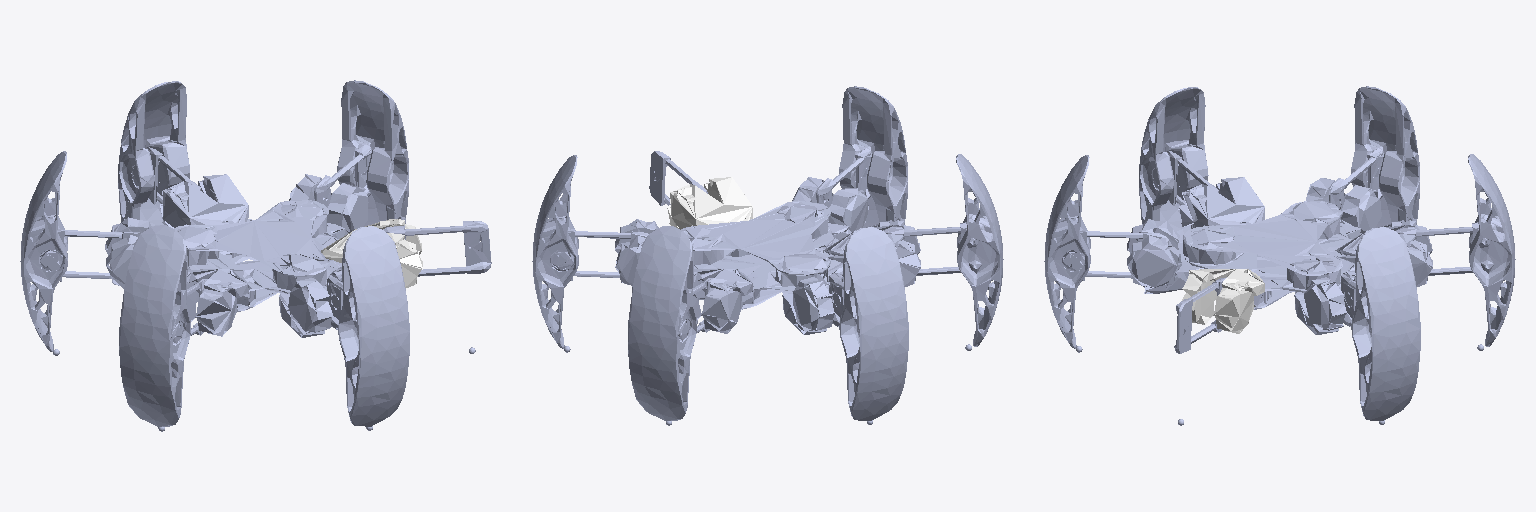
--- Render facts (derived) ---
3 views of the same robot in one strip: view 1: azimuth 30°, elevation 25°; view 2: azimuth 150°, elevation 25°; view 3: azimuth 270°, elevation 25° (orthographic).
Model Hex_centered with 25 links and 24 joints (18 revolute, 6 fixed), rooted at base_link, posed every joint at zero.
Visible links, largest first — view 1: leg4_sec2, leg3_sec2, base_link, leg1_sec2, leg0_sec2, leg2_sec2, leg1_sec0, leg3_sec0, leg4_sec0, leg0_sec0, leg5_sec1, leg5_sec0 (+5 smaller); view 2: leg2_sec2, leg1_sec2, base_link, leg4_sec2, leg3_sec2, leg0_sec2, leg5_sec0, leg1_sec0, leg2_sec0, leg4_sec0, leg3_sec0, leg0_sec0 (+5 smaller); view 3: leg0_sec2, base_link, leg3_sec2, leg2_sec2, leg1_sec2, leg4_sec2, leg5_sec0, leg4_sec0, leg3_sec0, leg0_sec0, leg2_sec0, leg1_sec0 (+6 smaller).
Link boxes in pixels (x1,y1,x2,y2): leg4_sec2: [338, 226, 409, 426]; leg3_sec2: [119, 225, 190, 426]; base_link: [174, 200, 341, 311]; leg1_sec2: [118, 81, 189, 225]; leg0_sec2: [337, 80, 408, 226]; leg2_sec2: [20, 151, 67, 351]; leg1_sec0: [160, 174, 248, 228]; leg3_sec0: [186, 269, 248, 336]; leg4_sec0: [279, 271, 341, 337]; leg0_sec0: [289, 174, 368, 238]; leg5_sec1: [383, 221, 491, 276]; leg5_sec0: [321, 219, 422, 287]; leg2_sec2: [839, 227, 908, 420]; leg1_sec2: [628, 226, 697, 420]; base_link: [681, 200, 842, 309]; leg4_sec2: [839, 86, 907, 227]; leg3_sec2: [956, 154, 1003, 346]; leg0_sec2: [532, 155, 578, 348]; leg5_sec0: [667, 177, 752, 229]; leg1_sec0: [693, 269, 752, 333]; leg2_sec0: [782, 270, 842, 334]; leg4_sec0: [792, 177, 868, 239]; leg3_sec0: [823, 220, 920, 286]; leg0_sec0: [615, 219, 658, 288]; leg0_sec2: [1351, 227, 1420, 420]; base_link: [1183, 201, 1354, 309]; leg3_sec2: [1139, 87, 1208, 242]; leg2_sec2: [1351, 86, 1419, 227]; leg1_sec2: [1468, 154, 1515, 346]; leg4_sec2: [1044, 155, 1090, 348]; leg5_sec0: [1182, 269, 1264, 333]; leg4_sec0: [1127, 219, 1203, 293]; leg3_sec0: [1179, 177, 1264, 228]; leg0_sec0: [1294, 270, 1355, 334]; leg2_sec0: [1306, 178, 1381, 239]; leg1_sec0: [1335, 220, 1432, 286].
Size in the robot's own frame: 0.6332 by 0.6919 by 0.3155 metres.
Meshes: 25 distinct files referenced, 24 mesh visuals loaded (24 OBJ); not drawn: 1 (reference not matched to a file when rendering).

URDF robot description (Hex_centered):
<?xml version="1.0" encoding="utf-8"?>
<!-- This URDF was automatically created by SolidWorks to URDF Exporter! Originally created by Stephen Brawner ([email redacted]) 
     Commit Version: 1.6.0-4-g7f85cfe  Build Version: 1.6.7995.38578
     For more information, please see http://wiki.ros.org/sw_urdf_exporter -->
<robot
  name="Hex_centered">
  <link
    name="base_link">
    <inertial>
      <origin
        xyz="8.4655E-16 -2.7749E-05 -0.0017166"
        rpy="0 0 0" />
      <mass
        value="1.1131" />
      <inertia
        ixx="0.0015545"
        ixy="5.2756E-19"
        ixz="-5.9226E-22"
        iyy="0.0015449"
        iyz="2.5998E-19"
        izz="0.0029493" />
    </inertial>
    <visual>
      <origin
        xyz="0 0 0"
        rpy="0 0 0" />
      <geometry>
        <mesh
          filename="base_link.obj" />
      </geometry>
      <material
        name="">
        <color
          rgba="0.79216 0.81961 0.93333 1" />
      </material>
    </visual>
    <collision>
      <origin
        xyz="0 0 0"
        rpy="0 0 0" />
      <geometry>
        <mesh
          filename="base_link.obj" />
      </geometry>
    </collision>
  </link>
  <link
    name="leg0_sec0">
    <inertial>
      <origin
        xyz="-0.00707569385529468 0.00855062625804036 -0.054815748898491"
        rpy="0 0 0" />
      <mass
        value="0.516744336009406" />
      <inertia
        ixx="0.000332035445912826"
        ixy="-1.19422290500033E-08"
        ixz="-4.70411717105616E-06"
        iyy="0.000381762150648277"
        iyz="2.26631086123267E-05"
        izz="0.000277923623107278" />
    </inertial>
    <visual>
      <origin
        xyz="0 0 0"
        rpy="0 0 0" />
      <geometry>
        <mesh
          filename="leg0_sec0.obj" />
      </geometry>
      <material
        name="">
        <color
          rgba="0.792156862745098 0.819607843137255 0.933333333333333 1" />
      </material>
    </visual>
    <collision>
      <origin
        xyz="0 0 0"
        rpy="0 0 0" />
      <geometry>
        <mesh
          filename="leg0_sec0.obj" />
      </geometry>
    </collision>
  </link>
  <joint
    name="base_link_leg0_sec0"
    type="revolute">
    <origin
      xyz="0.0883345911860111 0.0510000000000006 -0.00299999999999999"
      rpy="-1.5707963267949 0 2.09951777344053" />
    <parent
      link="base_link" />
    <child
      link="leg0_sec0" />
    <axis
      xyz="0 1 0" />
    <limit
      lower="-1"
      upper="1"
      effort="10"
      velocity="10" />
  </joint>
  <link
    name="leg0_sec1">
    <inertial>
      <origin
        xyz="-3.47960722002806E-05 0.00296670012037184 -0.0658939676969916"
        rpy="0 0 0" />
      <mass
        value="0.0550811829575692" />
      <inertia
        ixx="2.28144165037125E-05"
        ixy="5.51953299782515E-10"
        ixz="4.60445429205642E-10"
        iyy="4.57864500280882E-05"
        iyz="-1.00902241603427E-08"
        izz="2.37510646239458E-05" />
    </inertial>
    <visual>
      <origin
        xyz="0 0 0"
        rpy="0 0 0" />
      <geometry>
        <mesh
          filename="leg0_sec1.obj" />
      </geometry>
      <material
        name="">
        <color
          rgba="0.792156862745098 0.819607843137255 0.933333333333333 1" />
      </material>
    </visual>
    <collision>
      <origin
        xyz="0 0 0"
        rpy="0 0 0" />
      <geometry>
        <mesh
          filename="leg0_sec1.obj" />
      </geometry>
    </collision>
  </link>
  <joint
    name="leg0_sec0_leg0_sec1"
    type="revolute">
    <origin
      xyz="0.014 -0.0025 -0.083"
      rpy="0 0.045641 1.5708" />
    <parent
      link="leg0_sec0" />
    <child
      link="leg0_sec1" />
    <axis
      xyz="-2.1688E-05 -1 0.00047485" />
    <limit
      lower="-1"
      upper="1"
      effort="10"
      velocity="10" />
  </joint>
  <link
    name="leg0_sec2">
    <inertial>
      <origin
        xyz="0.00597993712436784 -0.019828072955937 0.00171878033778611"
        rpy="0 0 0" />
      <mass
        value="0.30128216441748" />
      <inertia
        ixx="0.0012875062335798"
        ixy="4.31058103013784E-07"
        ixz="0.000297696378153032"
        iyy="0.00126928197346853"
        iyz="3.09103455282562E-07"
        izz="0.000361201639787854" />
    </inertial>
    <visual>
      <origin
        xyz="0 0 0"
        rpy="0 0 0" />
      <geometry>
        <mesh
          filename="leg0_sec2.obj" />
      </geometry>
      <material
        name="">
        <color
          rgba="0.792156862745098 0.819607843137255 0.933333333333333 1" />
      </material>
    </visual>
    <collision>
      <origin
        xyz="0 0 0"
        rpy="0 0 0" />
      <geometry>
        <mesh
          filename="leg0_sec2.obj" />
      </geometry>
    </collision>
  </link>
  <joint
    name="leg0_sec1_leg0_sec2"
    type="revolute">
    <origin
      xyz="0 -0.0075 -0.118"
      rpy="0 -1.302 3.1416" />
    <parent
      link="leg0_sec1" />
    <child
      link="leg0_sec2" />
    <axis
      xyz="0.00046356 1 0.00010519" />
    <limit
      lower="-1"
      upper="1"
      effort="10"
      velocity="10" />
  </joint>
  <link
    name="leg0_end">
    <inertial>
      <origin
        xyz="-0.00438256224777916 -0.00839772550913839 0.000260732623376798"
        rpy="0 0 0" />
      <mass
        value="0.000523598775598299" />
      <inertia
        ixx="5.23598775598299E-09"
        ixy="-2.22951024477183E-25"
        ixz="-2.58493941422821E-26"
        iyy="5.23598775598298E-09"
        iyz="-5.16987882845642E-26"
        izz="5.23598775598299E-09" />
    </inertial>
    <visual>
      <origin
        xyz="0 0 0"
        rpy="0 0 0" />
      <geometry>
        <mesh
          filename="leg0_end.obj" />
      </geometry>
      <material
        name="">
        <color
          rgba="0.792156862745098 0.819607843137255 0.933333333333333 1" />
      </material>
    </visual>
    <collision>
      <origin
        xyz="0 0 0"
        rpy="0 0 0" />
      <geometry>
        <mesh
          filename="leg0_end.obj" />
      </geometry>
    </collision>
  </link>
  <joint
    name="leg0_sec2_leg0_end"
    type="fixed">
    <origin
      xyz="-0.030129 -0.021437 0.1463"
      rpy="-1.5398 0.11597 -2.657" />
    <parent
      link="leg0_sec2" />
    <child
      link="leg0_end" />
    <axis
      xyz="0 0 0" />
    <limit
      lower="-1"
      upper="1"
      effort="10"
      velocity="10" />
  </joint>
  <link
    name="leg1_sec0">
    <inertial>
      <origin
        xyz="-0.00710445304603185 0.00855022953898073 -0.0548148925372757"
        rpy="0 0 0" />
      <mass
        value="0.51674419533482" />
      <inertia
        ixx="0.000332030534681885"
        ixy="1.09687117943672E-08"
        ixz="-4.75157743858336E-06"
        iyy="0.000381752459194266"
        iyz="2.2678027424401E-05"
        izz="0.000277938234495214" />
    </inertial>
    <visual>
      <origin
        xyz="0 0 0"
        rpy="0 0 0" />
      <geometry>
        <mesh
          filename="leg1_sec0.obj" />
      </geometry>
      <material
        name="">
        <color
          rgba="0.792156862745098 0.819607843137255 0.933333333333333 1" />
      </material>
    </visual>
    <collision>
      <origin
        xyz="0 0 0"
        rpy="0 0 0" />
      <geometry>
        <mesh
          filename="leg1_sec0.obj" />
      </geometry>
    </collision>
  </link>
  <joint
    name="base_link_leg1_sec0"
    type="revolute">
    <origin
      xyz="0 0.102 0"
      rpy="1.5707963267949 0 0.00401317579419335" />
    <parent
      link="base_link" />
    <child
      link="leg1_sec0" />
    <axis
      xyz="0 1 0" />
    <limit
      lower="-1"
      upper="1"
      effort="10"
      velocity="10" />
  </joint>
  <link
    name="leg1_sec1">
    <inertial>
      <origin
        xyz="1.48463732280169E-09 0.00298679638148967 -0.0658997495889599"
        rpy="0 0 0" />
      <mass
        value="0.0550811690754703" />
      <inertia
        ixx="2.28145160395789E-05"
        ixy="9.43216308911731E-13"
        ixz="-1.27595524711446E-10"
        iyy="4.57865354622549E-05"
        iyz="1.45702317896288E-09"
        izz="2.37510484303137E-05" />
    </inertial>
    <visual>
      <origin
        xyz="0 0 0"
        rpy="0 0 0" />
      <geometry>
        <mesh
          filename="leg1_sec1.obj" />
      </geometry>
      <material
        name="">
        <color
          rgba="0.792156862745098 0.819607843137255 0.933333333333333 1" />
      </material>
    </visual>
    <collision>
      <origin
        xyz="0 0 0"
        rpy="0 0 0" />
      <geometry>
        <mesh
          filename="leg1_sec1.obj" />
      </geometry>
    </collision>
  </link>
  <joint
    name="leg1_sec0_leg1_sec1"
    type="revolute">
    <origin
      xyz="-0.0139999999999956 -0.00249999999999998 -0.0830000000000002"
      rpy="0 0.0750140295306033 -1.5707963267949" />
    <parent
      link="leg1_sec0" />
    <child
      link="leg1_sec1" />
    <axis
      xyz="0 1 0" />
    <limit
      lower="-1"
      upper="1"
      effort="10"
      velocity="10" />
  </joint>
  <link
    name="leg1_sec2">
    <inertial>
      <origin
        xyz="0.00447856820292183 0.0359301913587442 0.00431952813861851"
        rpy="0 0 0" />
      <mass
        value="0.301282245465355" />
      <inertia
        ixx="0.000839650699187153"
        ixy="-5.43340470613798E-07"
        ixz="0.000550363105349293"
        iyy="0.00126928650978786"
        iyz="-2.38816065708558E-07"
        izz="0.000809060253833485" />
    </inertial>
    <visual>
      <origin
        xyz="0 0 0"
        rpy="0 0 0" />
      <geometry>
        <mesh
          filename="leg1_sec2.obj" />
      </geometry>
      <material
        name="">
        <color
          rgba="0.792156862745098 0.819607843137255 0.933333333333333 1" />
      </material>
    </visual>
    <collision>
      <origin
        xyz="0 0 0"
        rpy="0 0 0" />
      <geometry>
        <mesh
          filename="leg1_sec2.obj" />
      </geometry>
    </collision>
  </link>
  <joint
    name="leg1_sec1_leg1_sec2"
    type="revolute">
    <origin
      xyz="0 -0.0240000000000046 -0.118"
      rpy="0 -0.791521153426387 0" />
    <parent
      link="leg1_sec1" />
    <child
      link="leg1_sec2" />
    <axis
      xyz="0 -1 0" />
    <limit
      lower="-1"
      upper="1"
      effort="10"
      velocity="10" />
  </joint>
  <link
    name="leg1_end">
    <inertial>
      <origin
        xyz="0 0 0"
        rpy="0 0 0" />
      <mass
        value="0.000523598775598299" />
      <inertia
        ixx="5.23598775598299E-09"
        ixy="1.03397576569128E-25"
        ixz="0"
        iyy="5.23598775598299E-09"
        iyz="-1.29246970711411E-25"
        izz="5.23598775598299E-09" />
    </inertial>
    <visual>
      <origin
        xyz="0 0 0"
        rpy="0 0 0" />
      <geometry>
        <mesh
          filename="leg1_end.obj" />
      </geometry>
      <material
        name="">
        <color
          rgba="0.792156862745098 0.819607843137255 0.933333333333333 1" />
      </material>
    </visual>
    <collision>
      <origin
        xyz="0 0 0"
        rpy="0 0 0" />
      <geometry>
        <mesh
          filename="leg1_end.obj" />
      </geometry>
    </collision>
  </link>
  <joint
    name="leg1_sec2_leg1_end"
    type="fixed">
    <origin
      xyz="0.124761507761288 0.036148286668602 -0.0984937610507115"
      rpy="0.969665570451577 0.803297229042856 2.41148618199875" />
    <parent
      link="leg1_sec2" />
    <child
      link="leg1_end" />
    <axis
      xyz="0 0 0" />
  </joint>
  <link
    name="leg2_sec0">
    <inertial>
      <origin
        xyz="-0.00710445055153557 -0.0206811805150298 -0.054812028813218"
        rpy="0 0 0" />
      <mass
        value="0.516744340904771" />
      <inertia
        ixx="0.000332030498302113"
        ixy="-5.73639305002406E-11"
        ixz="-4.73249435846793E-06"
        iyy="0.000381762164339501"
        iyz="2.26631091945157E-05"
        izz="0.000277928582872897" />
    </inertial>
    <visual>
      <origin
        xyz="0 0 0"
        rpy="0 0 0" />
      <geometry>
        <mesh
          filename="leg2_sec0.obj" />
      </geometry>
      <material
        name="">
        <color
          rgba="0.792156862745098 0.819607843137255 0.933333333333333 1" />
      </material>
    </visual>
    <collision>
      <origin
        xyz="0 0 0"
        rpy="0 0 0" />
      <geometry>
        <mesh
          filename="leg2_sec0.obj" />
      </geometry>
    </collision>
  </link>
  <joint
    name="base_link_leg2_sec0"
    type="revolute">
    <origin
      xyz="-0.0883345911860131 0.0510000000000005 -0.0322318069086422"
      rpy="-1.5707963267949 0 -2.0887478298947" />
    <parent
      link="base_link" />
    <child
      link="leg2_sec0" />
    <axis
      xyz="0 1 0" />
    <limit
      lower="-1"
      upper="1"
      effort="10"
      velocity="10" />
  </joint>
  <link
    name="leg2_sec1">
    <inertial>
      <origin
        xyz="5.25503776604985E-09 -0.0109552250162961 -0.0658997561016724"
        rpy="0 0 0" />
      <mass
        value="0.0550811835691165" />
      <inertia
        ixx="2.28144162219905E-05"
        ixy="6.87387369928867E-13"
        ixz="-2.99949390540895E-11"
        iyy="4.57864548150819E-05"
        iyz="1.45667549934326E-09"
        izz="2.37510606270452E-05" />
    </inertial>
    <visual>
      <origin
        xyz="0 0 0"
        rpy="0 0 0" />
      <geometry>
        <mesh
          filename="leg2_sec1.obj" />
      </geometry>
      <material
        name="">
        <color
          rgba="0.792156862745098 0.819607843137255 0.933333333333333 1" />
      </material>
    </visual>
    <collision>
      <origin
        xyz="0 0 0"
        rpy="0 0 0" />
      <geometry>
        <mesh
          filename="leg2_sec1.obj" />
      </geometry>
    </collision>
  </link>
  <joint
    name="leg2_sec0_leg2_sec1"
    type="revolute">
    <origin
      xyz="0 -0.0317318069086421 -0.0829999999999991"
      rpy="0 0.0461645170086927 1.5707963267949" />
    <parent
      link="leg2_sec0" />
    <child
      link="leg2_sec1" />
    <axis
      xyz="0 0.999999998787039 4.920117719176E-05" />
    <limit
      lower="-1"
      upper="1"
      effort="10"
      velocity="10" />
  </joint>
  <link
    name="leg2_sec2">
    <inertial>
      <origin
        xyz="0.00506647207805064 -0.00361212267776093 0.00156975734931639"
        rpy="0 0 0" />
      <mass
        value="0.301282383105138" />
      <inertia
        ixx="0.00100817381744662"
        ixy="-0.000518985545059815"
        ixz="3.35388953606806E-07"
        iyy="0.000640542280867976"
        iyz="-4.89721520029434E-07"
        izz="0.00126929100056078" />
    </inertial>
    <visual>
      <origin
        xyz="0 0 0"
        rpy="0 0 0" />
      <geometry>
        <mesh
          filename="leg2_sec2.obj" />
      </geometry>
      <material
        name="">
        <color
          rgba="0.792156862745098 0.819607843137255 0.933333333333333 1" />
      </material>
    </visual>
    <collision>
      <origin
        xyz="0 0 0"
        rpy="0 0 0" />
      <geometry>
        <mesh
          filename="leg2_sec2.obj" />
      </geometry>
    </collision>
  </link>
  <joint
    name="leg2_sec1_leg2_sec2"
    type="revolute">
    <origin
      xyz="0 0 -0.118"
      rpy="-1.57079632679491 -0.971924974977197 -3.14159265358978" />
    <parent
      link="leg2_sec1" />
    <child
      link="leg2_sec2" />
    <axis
      xyz="-4.19200750312876E-05 2.58576780800823E-05 0.999999998787044" />
    <limit
      lower="-1"
      upper="1"
      effort="10"
      velocity="10" />
  </joint>
  <link
    name="leg2_end">
    <inertial>
      <origin
        xyz="0 0 0"
        rpy="0 0 0" />
      <mass
        value="0.000523598775598299" />
      <inertia
        ixx="5.23598775598299E-09"
        ixy="-9.04728794979874E-26"
        ixz="-2.06795153138257E-25"
        iyy="5.23598775598298E-09"
        iyz="1.03397576569128E-25"
        izz="5.23598775598299E-09" />
    </inertial>
    <visual>
      <origin
        xyz="0 0 0"
        rpy="0 0 0" />
      <geometry>
        <mesh
          filename="leg2_end.obj" />
      </geometry>
      <material
        name="">
        <color
          rgba="0.792156862745098 0.819607843137255 0.933333333333333 1" />
      </material>
    </visual>
    <collision>
      <origin
        xyz="0 0 0"
        rpy="0 0 0" />
      <geometry>
        <mesh
          filename="leg2_end.obj" />
      </geometry>
    </collision>
  </link>
  <joint
    name="leg2_sec2_leg2_end"
    type="fixed">
    <origin
      xyz="-0.0759237273830959 -0.138069815645729 0.00153632213479866"
      rpy="3.11289588948014 0.483102881287211 2.68217676816751" />
    <parent
      link="leg2_sec2" />
    <child
      link="leg2_end" />
    <axis
      xyz="0 0 0" />
  </joint>
  <link
    name="leg3_sec0">
    <inertial>
      <origin
        xyz="-0.00710445049796826 0.0085502314605868 -0.0548148830973804"
        rpy="0 0 0" />
      <mass
        value="0.51674434334138" />
      <inertia
        ixx="0.000332030497320948"
        ixy="1.09508607538054E-08"
        ixz="-4.75156132613358E-06"
        iyy="0.000381752452117392"
        iyz="2.2678016415106E-05"
        izz="0.000277938295233445" />
    </inertial>
    <visual>
      <origin
        xyz="0 0 0"
        rpy="0 0 0" />
      <geometry>
        <mesh
          filename="leg3_sec0.obj" />
      </geometry>
      <material
        name="">
        <color
          rgba="0.792156862745098 0.819607843137255 0.933333333333333 1" />
      </material>
    </visual>
    <collision>
      <origin
        xyz="0 0 0"
        rpy="0 0 0" />
      <geometry>
        <mesh
          filename="leg3_sec0.obj" />
      </geometry>
    </collision>
  </link>
  <joint
    name="base_link_leg3_sec0"
    type="revolute">
    <origin
      xyz="-0.0883345911860119 -0.0510000000000026 0"
      rpy="1.5707963267949 0 2.09840827818739" />
    <parent
      link="base_link" />
    <child
      link="leg3_sec0" />
    <axis
      xyz="0 1 0" />
    <limit
      lower="-1"
      upper="1"
      effort="10"
      velocity="10" />
  </joint>
  <link
    name="leg3_sec1">
    <inertial>
      <origin
        xyz="-1.86242390606828E-09 0.00298683029554875 -0.0658997383493555"
        rpy="0 0 0" />
      <mass
        value="0.05508118510774" />
      <inertia
        ixx="2.28144167847957E-05"
        ixy="1.15459821771112E-12"
        ixz="-2.95649396417999E-11"
        iyy="4.57864559080722E-05"
        iyz="1.45756403955783E-09"
        izz="2.37510611896855E-05" />
    </inertial>
    <visual>
      <origin
        xyz="0 0 0"
        rpy="0 0 0" />
      <geometry>
        <mesh
          filename="leg3_sec1.obj" />
      </geometry>
      <material
        name="">
        <color
          rgba="0.792156862745098 0.819607843137255 0.933333333333333 1" />
      </material>
    </visual>
    <collision>
      <origin
        xyz="0 0 0"
        rpy="0 0 0" />
      <geometry>
        <mesh
          filename="leg3_sec1.obj" />
      </geometry>
    </collision>
  </link>
  <joint
    name="leg3_sec0_leg3_sec1"
    type="revolute">
    <origin
      xyz="-0.014 -0.00249999999999027 -0.082999999999997"
      rpy="0 0.0750140293482233 -1.5707963267949" />
    <parent
      link="leg3_sec0" />
    <child
      link="leg3_sec1" />
    <axis
      xyz="0 1 0" />
    <limit
      lower="-1"
      upper="1"
      effort="10"
      velocity="10" />
  </joint>
  <link
    name="leg3_sec2">
    <inertial>
      <origin
        xyz="0.00447860530466054 0.0359301784982642 0.00431942794813184"
        rpy="0 0 0" />
      <mass
        value="0.301282032345394" />
      <inertia
        ixx="0.00083964691740419"
        ixy="-5.43655253747486E-07"
        ixz="0.000550362229373171"
        iyy="0.00126928091669943"
        iyz="-2.3820985063926E-07"
        izz="0.000809058576296916" />
    </inertial>
    <visual>
      <origin
        xyz="0 0 0"
        rpy="0 0 0" />
      <geometry>
        <mesh
          filename="leg3_sec2.obj" />
      </geometry>
      <material
        name="">
        <color
          rgba="0.792156862745098 0.819607843137255 0.933333333333333 1" />
      </material>
    </visual>
    <collision>
      <origin
        xyz="0 0 0"
        rpy="0 0 0" />
      <geometry>
        <mesh
          filename="leg3_sec2.obj" />
      </geometry>
    </collision>
  </link>
  <joint
    name="leg3_sec1_leg3_sec2"
    type="revolute">
    <origin
      xyz="0 -0.0240000000000002 -0.118000000000003"
      rpy="0 -0.79152115324401 0" />
    <parent
      link="leg3_sec1" />
    <child
      link="leg3_sec2" />
    <axis
      xyz="0 -1 0" />
    <limit
      lower="-1"
      upper="1"
      effort="10"
      velocity="10" />
  </joint>
  <link
    name="leg3_end">
    <inertial>
      <origin
        xyz="0 0 0"
        rpy="0 0 0" />
      <mass
        value="0.000523598775598299" />
      <inertia
        ixx="5.23598775598299E-09"
        ixy="-2.26182198744969E-26"
        ixz="-3.87740912134232E-26"
        iyy="5.23598775598299E-09"
        iyz="-5.16987882845642E-26"
        izz="5.23598775598299E-09" />
    </inertial>
    <visual>
      <origin
        xyz="0 0 0"
        rpy="0 0 0" />
      <geometry>
        <mesh
          filename="leg3_end.obj" />
      </geometry>
      <material
        name="">
        <color
          rgba="0.792156862745098 0.819607843137255 0.933333333333333 1" />
      </material>
    </visual>
    <collision>
      <origin
        xyz="0 0 0"
        rpy="0 0 0" />
      <geometry>
        <mesh
          filename="leg3_end.obj" />
      </geometry>
    </collision>
  </link>
  <joint
    name="leg3_sec2_leg3_end"
    type="fixed">
    <origin
      xyz="0.124761507746165 0.0361482866686022 -0.0984937610354024"
      rpy="0.969665570451575 0.803297229042854 2.41148618199875" />
    <parent
      link="leg3_sec2" />
    <child
      link="leg3_end" />
    <axis
      xyz="0 0 0" />
  </joint>
  <link
    name="leg4_sec0">
    <inertial>
      <origin
        xyz="-0.00710445303505077 0.00855062450257226 -0.0548120381256653"
        rpy="0 0 0" />
      <mass
        value="0.51674419539948" />
      <inertia
        ixx="0.000332030534503116"
        ixy="-3.96325880872006E-11"
        ixz="-4.7325102588364E-06"
        iyy="0.000381762170173281"
        iyz="2.26631200821973E-05"
        izz="0.000277928522694961" />
    </inertial>
    <visual>
      <origin
        xyz="0 0 0"
        rpy="0 0 0" />
      <geometry>
        <mesh
          filename="leg4_sec0.obj" />
      </geometry>
      <material
        name="">
        <color
          rgba="0.792156862745098 0.819607843137255 0.933333333333333 1" />
      </material>
    </visual>
    <collision>
      <origin
        xyz="0 0 0"
        rpy="0 0 0" />
      <geometry>
        <mesh
          filename="leg4_sec0.obj" />
      </geometry>
    </collision>
  </link>
  <joint
    name="base_link_leg4_sec0"
    type="revolute">
    <origin
      xyz="0 -0.102 -0.003"
      rpy="-1.5708 0 0.0056473" />
    <parent
      link="base_link" />
    <child
      link="leg4_sec0" />
    <axis
      xyz="0 1 0" />
    <limit
      lower="-1"
      upper="1"
      effort="10"
      velocity="10" />
  </joint>
  <link
    name="leg4_sec1">
    <inertial>
      <origin
        xyz="1.55185030797922E-09 0.00304474105440002 -0.0658997504155771"
        rpy="0 0 0" />
      <mass
        value="0.0550811667402721" />
      <inertia
        ixx="2.28145150533023E-05"
        ixy="9.40225941500973E-13"
        ixz="-1.27680898175252E-10"
        iyy="4.5786533657584E-05"
        iyz="1.45699133116291E-09"
        izz="2.37510475440189E-05" />
    </inertial>
    <visual>
      <origin
        xyz="0 0 0"
        rpy="0 0 0" />
      <geometry>
        <mesh
          filename="leg4_sec1.obj" />
      </geometry>
      <material
        name="">
        <color
          rgba="0.792156862745098 0.819607843137255 0.933333333333333 1" />
      </material>
    </visual>
    <collision>
      <origin
        xyz="0 0 0"
        rpy="0 0 0" />
      <geometry>
        <mesh
          filename="leg4_sec1.obj" />
      </geometry>
    </collision>
  </link>
  <joint
    name="leg4_sec0_leg4_sec1"
    type="revolute">
    <origin
      xyz="0.0139999999997467 -0.00249999999902129 -0.0830000000016922"
      rpy="0 0.0461645169152207 1.5707963267949" />
    <parent
      link="leg4_sec0" />
    <child
      link="leg4_sec1" />
    <axis
      xyz="0 0.999999998787038 4.92011950652474E-05" />
    <limit
      lower="-1"
      upper="1"
      effort="10"
      velocity="10" />
  </joint>
  <link
    name="leg4_sec2">
    <inertial>
      <origin
        xyz="0.00596287497487452 -0.0199302535089278 0.001777992879926"
        rpy="0 0 0" />
      <mass
        value="0.301282726812204" />
      <inertia
        ixx="0.00128751403890389"
        ixy="4.76738917873338E-07"
        ixz="0.000297700131008368"
        iyy="0.00126929778505946"
        iyz="3.53794352511474E-07"
        izz="0.00036120939589547" />
    </inertial>
    <visual>
      <origin
        xyz="0 0 0"
        rpy="0 0 0" />
      <geometry>
        <mesh
          filename="leg4_sec2.obj" />
      </geometry>
      <material
        name="">
        <color
          rgba="0.792156862745098 0.819607843137255 0.933333333333333 1" />
      </material>
    </visual>
    <collision>
      <origin
        xyz="0 0 0"
        rpy="0 0 0" />
      <geometry>
        <mesh
          filename="leg4_sec2.obj" />
      </geometry>
    </collision>
  </link>
  <joint
    name="leg4_sec1_leg4_sec2"
    type="revolute">
    <origin
      xyz="0 -0.00749999999938609 -0.118000000015958"
      rpy="0 -1.30148876312317 -3.14159265358977" />
    <parent
      link="leg4_sec1" />
    <child
      link="leg4_sec2" />
    <axis
      xyz="-4.80324338419475E-05 0.999999998787043 -1.08995076120095E-05" />
    <limit
      lower="-1"
      upper="1"
      effort="10"
      velocity="10" />
  </joint>
  <link
    name="leg4_end">
    <inertial>
      <origin
        xyz="5.55111512312578E-17 0 -2.77555756156289E-17"
        rpy="0 0 0" />
      <mass
        value="0.000523598775598299" />
      <inertia
        ixx="5.23598775598298E-09"
        ixy="-5.16987882845642E-26"
        ixz="4.13590306276514E-25"
        iyy="5.23598775598298E-09"
        iyz="5.16987882845642E-26"
        izz="5.23598775598298E-09" />
    </inertial>
    <visual>
      <origin
        xyz="0 0 0"
        rpy="0 0 0" />
      <geometry>
        <mesh
          filename="leg4_end.obj" />
      </geometry>
      <material
        name="">
        <color
          rgba="0.792156862745098 0.819607843137255 0.933333333333333 1" />
      </material>
    </visual>
    <collision>
      <origin
        xyz="0 0 0"
        rpy="0 0 0" />
      <geometry>
        <mesh
          filename="leg4_end.obj" />
      </geometry>
    </collision>
  </link>
  <joint
    name="leg4_sec1_leg4_end"
    type="fixed">
    <origin
      xyz="-0.0271542070757799 -0.019963677867964 0.155210616284265"
      rpy="-1.53890591238882 0.114921448047227 -2.65500348954818" />
    <parent
      link="leg4_sec2" />
    <child
      link="leg4_end" />
    <axis
      xyz="0 0 0" />
  </joint>
  <link
    name="leg5_sec0">
    <inertial>
      <origin
        xyz="0 0 0"
        rpy="0 0 0" />
      <mass
        value="0" />
      <inertia
        ixx="0"
        ixy="0"
        ixz="0"
        iyy="0"
        iyz="0"
        izz="0" />
    </inertial>
    <visual>
      <origin
        xyz="0 0 0"
        rpy="0 0 0" />
      <geometry>
        <mesh
          filename="leg5_sec0.obj" />
      </geometry>
      <material
        name="">
        <color
          rgba="1 1 1 1" />
      </material>
    </visual>
    <collision>
      <origin
        xyz="0 0 0"
        rpy="0 0 0" />
      <geometry>
        <mesh
          filename="leg5_sec0.obj" />
      </geometry>
    </collision>
  </link>
  <joint
    name="base_link_leg5_sec0"
    type="revolute">
    <origin
      xyz="0.0883345911860154 -0.0509999999999997 0"
      rpy="1.5707963267949 0 -2.09038192659899" />
    <parent
      link="base_link" />
    <child
      link="leg5_sec0" />
    <axis
      xyz="0 1 0" />
    <limit
      lower="-1"
      upper="1"
      effort="10"
      velocity="10" />
  </joint>
  <link
    name="leg5_sec1">
    <inertial>
      <origin
        xyz="5.71011421132694E-09 0.00533038998828729 -0.05907045947276"
        rpy="0 0 0" />
      <mass
        value="0.0486978737702698" />
      <inertia
        ixx="2.23874617536782E-05"
        ixy="6.82131812553126E-13"
        ixz="-2.93052584054011E-11"
        iyy="4.50321877207089E-05"
        iyz="1.45670538125702E-09"
        izz="2.33241066637153E-05" />
    </inertial>
    <visual>
      <origin
        xyz="0 0 0"
        rpy="0 0 0" />
      <geometry>
        <mesh
          filename="leg5_sec1.obj" />
      </geometry>
      <material
        name="">
        <color
          rgba="0.792156862745098 0.819607843137255 0.933333333333333 1" />
      </material>
    </visual>
    <collision>
      <origin
        xyz="0 0 0"
        rpy="0 0 0" />
      <geometry>
        <mesh
          filename="leg5_sec1.obj" />
      </geometry>
    </collision>
  </link>
  <joint
    name="leg5_sec0_leg5_sec1"
    type="revolute">
    <origin
      xyz="-0.0139999999999999 -0.00249999999999021 -0.0829999999999969"
      rpy="0 0.0750140293482231 -1.5707963267949" />
    <parent
      link="leg5_sec0" />
    <child
      link="leg5_sec1" />
    <axis
      xyz="0 1 0" />
    <limit
      lower="-1"
      upper="1"
      effort="10"
      velocity="10" />
  </joint>
  <link
    name="leg5_sec2">
    <inertial>
      <origin
        xyz="0.00447855748927306 0.0359302309473375 0.00431961611906123"
        rpy="0 0 0" />
      <mass
        value="0.301282258314777" />
      <inertia
        ixx="0.000839653296899393"
        ixy="-5.43039219271966E-07"
        ixz="0.000550363438528571"
        iyy="0.00126928985211286"
        iyz="-2.39708770127247E-07"
        izz="0.000809061532346639" />
    </inertial>
    <visual>
      <origin
        xyz="0 0 0"
        rpy="0 0 0" />
      <geometry>
        <mesh
          filename="leg5_sec2.obj" />
      </geometry>
      <material
        name="">
        <color
          rgba="0.792156862745098 0.819607843137255 0.933333333333333 1" />
      </material>
    </visual>
    <collision>
      <origin
        xyz="0 0 0"
        rpy="0 0 0" />
      <geometry>
        <mesh
          filename="leg5_sec2.obj" />
      </geometry>
    </collision>
  </link>
  <joint
    name="leg5_sec1_leg5_sec2"
    type="revolute">
    <origin
      xyz="0 -0.0240000000000002 -0.118000000000002"
      rpy="0 -0.791521153244008 0" />
    <parent
      link="leg5_sec1" />
    <child
      link="leg5_sec2" />
    <axis
      xyz="0 -1 0" />
    <limit
      lower="-1"
      upper="1"
      effort="10"
      velocity="10" />
  </joint>
  <link
    name="leg5_end">
    <inertial>
      <origin
        xyz="0 0 2.77555756156289E-17"
        rpy="0 0 0" />
      <mass
        value="0.000523598775598299" />
      <inertia
        ixx="5.23598775598299E-09"
        ixy="-3.87740912134232E-26"
        ixz="-4.13590306276514E-25"
        iyy="5.23598775598299E-09"
        iyz="1.93870456067116E-26"
        izz="5.23598775598299E-09" />
    </inertial>
    <visual>
      <origin
        xyz="0 0 0"
        rpy="0 0 0" />
      <geometry>
        <mesh
          filename="leg5_end.obj" />
      </geometry>
      <material
        name="">
        <color
          rgba="0.792156862745098 0.819607843137255 0.933333333333333 1" />
      </material>
    </visual>
    <collision>
      <origin
        xyz="0 0 0"
        rpy="0 0 0" />
      <geometry>
        <mesh
          filename="leg5_end.obj" />
      </geometry>
    </collision>
  </link>
  <joint
    name="leg5_sec2_leg4_end"
    type="fixed">
    <origin
      xyz="0.124761507746165 0.036148286668602 -0.0984937610354022"
      rpy="0.969665570451577 0.803297229042861 2.41148618199875" />
    <parent
      link="leg5_sec2" />
    <child
      link="leg5_end" />
    <axis
      xyz="0 0 0" />
  </joint>
    <transmission name="simple_trans00">
    <type>transmission_interface/SimpleTransmission</type>
    <joint name="base_link_leg0_sec0">
        <hardwareInterface>EffortJointInterface</hardwareInterface>
    </joint>
    <actuator name="foo_motor00">
        <mechanicalReduction>1</mechanicalReduction>
        <hardwareInterface>EffortJointInterface</hardwareInterface>
    </actuator>
    </transmission>

    <transmission name="simple_trans01">
    <type>transmission_interface/SimpleTransmission</type>
    <joint name="leg0_sec0_leg0_sec1">
        <hardwareInterface>EffortJointInterface</hardwareInterface>
    </joint>
    <actuator name="foo_motor01">
        <mechanicalReduction>1</mechanicalReduction>
        <hardwareInterface>EffortJointInterface</hardwareInterface>
    </actuator>
    </transmission>

    <transmission name="simple_trans02">
    <type>transmission_interface/SimpleTransmission</type>
    <joint name="leg0_sec1_leg0_sec2">
        <hardwareInterface>EffortJointInterface</hardwareInterface>
    </joint>
    <actuator name="foo_motor02">
        <mechanicalReduction>1</mechanicalReduction>
        <hardwareInterface>EffortJointInterface</hardwareInterface>
    </actuator>
    </transmission>

    <transmission name="simple_trans10">
    <type>transmission_interface/SimpleTransmission</type>
    <joint name="base_link_leg1_sec0">
        <hardwareInterface>EffortJointInterface</hardwareInterface>
    </joint>
    <actuator name="foo_motor10">
        <mechanicalReduction>1</mechanicalReduction>
        <hardwareInterface>EffortJointInterface</hardwareInterface>
    </actuator>
    </transmission>

    <transmission name="simple_trans11">
    <type>transmission_interface/SimpleTransmission</type>
    <joint name="leg1_sec0_leg1_sec1">
        <hardwareInterface>EffortJointInterface</hardwareInterface>
    </joint>
    <actuator name="foo_motor11">
        <mechanicalReduction>1</mechanicalReduction>
        <hardwareInterface>EffortJointInterface</hardwareInterface>
    </actuator>
    </transmission>

    <transmission name="simple_trans12">
    <type>transmission_interface/SimpleTransmission</type>
    <joint name="leg1_sec1_leg1_sec2">
        <hardwareInterface>EffortJointInterface</hardwareInterface>
    </joint>
    <actuator name="foo_motor12">
        <mechanicalReduction>1</mechanicalReduction>
        <hardwareInterface>EffortJointInterface</hardwareInterface>
    </actuator>
    </transmission>

    <transmission name="simple_trans20">
    <type>transmission_interface/SimpleTransmission</type>
    <joint name="base_link_leg2_sec0">
        <hardwareInterface>EffortJointInterface</hardwareInterface>
    </joint>
    <actuator name="foo_motor20">
        <mechanicalReduction>1</mechanicalReduction>
        <hardwareInterface>EffortJointInterface</hardwareInterface>
    </actuator>
    </transmission>

    <transmission name="simple_trans21">
    <type>transmission_interface/SimpleTransmission</type>
    <joint name="leg2_sec0_leg2_sec1">
        <hardwareInterface>EffortJointInterface</hardwareInterface>
    </joint>
    <actuator name="foo_motor21">
        <mechanicalReduction>1</mechanicalReduction>
        <hardwareInterface>EffortJointInterface</hardwareInterface>
    </actuator>
    </transmission>

    <transmission name="simple_trans22">
    <type>transmission_interface/SimpleTransmission</type>
    <joint name="leg2_sec1_leg2_sec2">
        <hardwareInterface>EffortJointInterface</hardwareInterface>
    </joint>
    <actuator name="foo_motor22">
        <mechanicalReduction>1</mechanicalReduction>
        <hardwareInterface>EffortJointInterface</hardwareInterface>
    </actuator>
    </transmission>

    <transmission name="simple_trans30">
    <type>transmission_interface/SimpleTransmission</type>
    <joint name="base_link_leg3_sec0">
        <hardwareInterface>EffortJointInterface</hardwareInterface>
    </joint>
    <actuator name="foo_motor30">
        <mechanicalReduction>1</mechanicalReduction>
        <hardwareInterface>EffortJointInterface</hardwareInterface>
    </actuator>
    </transmission>

    <transmission name="simple_trans31">
    <type>transmission_interface/SimpleTransmission</type>
    <joint name="leg3_sec0_leg3_sec1">
        <hardwareInterface>EffortJointInterface</hardwareInterface>
    </joint>
    <actuator name="foo_motor31">
        <mechanicalReduction>1</mechanicalReduction>
        <hardwareInterface>EffortJointInterface</hardwareInterface>
    </actuator>
    </transmission>

    <transmission name="simple_trans32">
    <type>transmission_interface/SimpleTransmission</type>
    <joint name="leg3_sec1_leg3_sec2">
        <hardwareInterface>EffortJointInterface</hardwareInterface>
    </joint>
    <actuator name="foo_motor32">
        <mechanicalReduction>1</mechanicalReduction>
        <hardwareInterface>EffortJointInterface</hardwareInterface>
    </actuator>
    </transmission>

    <transmission name="simple_trans40">
    <type>transmission_interface/SimpleTransmission</type>
    <joint name="base_link_leg4_sec0">
        <hardwareInterface>EffortJointInterface</hardwareInterface>
    </joint>
    <actuator name="foo_motor40">
        <mechanicalReduction>1</mechanicalReduction>
        <hardwareInterface>EffortJointInterface</hardwareInterface>
    </actuator>
    </transmission>

    <transmission name="simple_trans41">
    <type>transmission_interface/SimpleTransmission</type>
    <joint name="leg4_sec0_leg4_sec1">
        <hardwareInterface>EffortJointInterface</hardwareInterface>
    </joint>
    <actuator name="foo_motor41">
        <mechanicalReduction>1</mechanicalReduction>
        <hardwareInterface>EffortJointInterface</hardwareInterface>
    </actuator>
    </transmission>

    <transmission name="simple_trans42">
    <type>transmission_interface/SimpleTransmission</type>
    <joint name="leg4_sec1_leg4_sec2">
        <hardwareInterface>EffortJointInterface</hardwareInterface>
    </joint>
    <actuator name="foo_motor42">
        <mechanicalReduction>1</mechanicalReduction>
        <hardwareInterface>EffortJointInterface</hardwareInterface>
    </actuator>
    </transmission>

    <transmission name="simple_trans50">
    <type>transmission_interface/SimpleTransmission</type>
    <joint name="base_link_leg5_sec0">
        <hardwareInterface>EffortJointInterface</hardwareInterface>
    </joint>
    <actuator name="foo_motor50">
        <mechanicalReduction>1</mechanicalReduction>
        <hardwareInterface>EffortJointInterface</hardwareInterface>
    </actuator>
    </transmission>

    <transmission name="simple_trans51">
    <type>transmission_interface/SimpleTransmission</type>
    <joint name="leg5_sec0_leg5_sec1">
        <hardwareInterface>EffortJointInterface</hardwareInterface>
    </joint>
    <actuator name="foo_motor51">
        <mechanicalReduction>1</mechanicalReduction>
        <hardwareInterface>EffortJointInterface</hardwareInterface>
    </actuator>
    </transmission>

    <transmission name="simple_trans52">
    <type>transmission_interface/SimpleTransmission</type>
    <joint name="leg5_sec1_leg5_sec2">
        <hardwareInterface>EffortJointInterface</hardwareInterface>
    </joint>
    <actuator name="foo_motor52">
        <mechanicalReduction>1</mechanicalReduction>
        <hardwareInterface>EffortJointInterface</hardwareInterface>
    </actuator>
    </transmission>
</robot>
